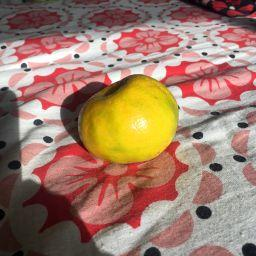Ripe: (81, 73, 179, 159)
